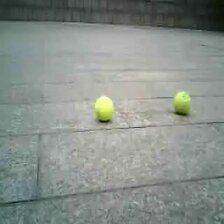tennis: (95, 97, 113, 119), (175, 93, 191, 113)
